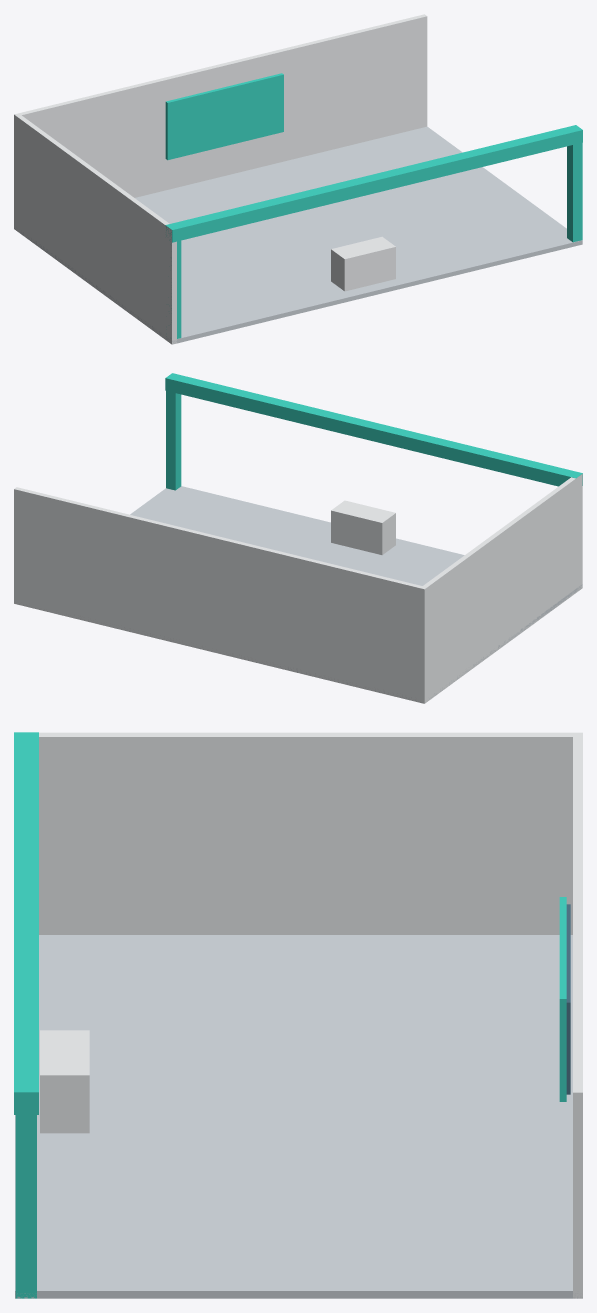
The picture shows the model from 3 angles, top to bottom: view 1: azimuth 30°, elevation 25°; view 2: azimuth 150°, elevation 25°; view 3: azimuth 270°, elevation 25°; orthographic projection. The views are drawn at different scales.
Parts seen in each view (by area): view 1: Exhibition Booth Concept; view 2: Exhibition Booth Concept; view 3: Exhibition Booth Concept.
Boxes of the visible parts, x1,y1,x2,y2 form: Exhibition Booth Concept: [14, 14, 582, 344]; Exhibition Booth Concept: [14, 373, 582, 703]; Exhibition Booth Concept: [14, 732, 582, 1298].
Bounding box in the file's own units: 12 × 3.2 × 8.01.
